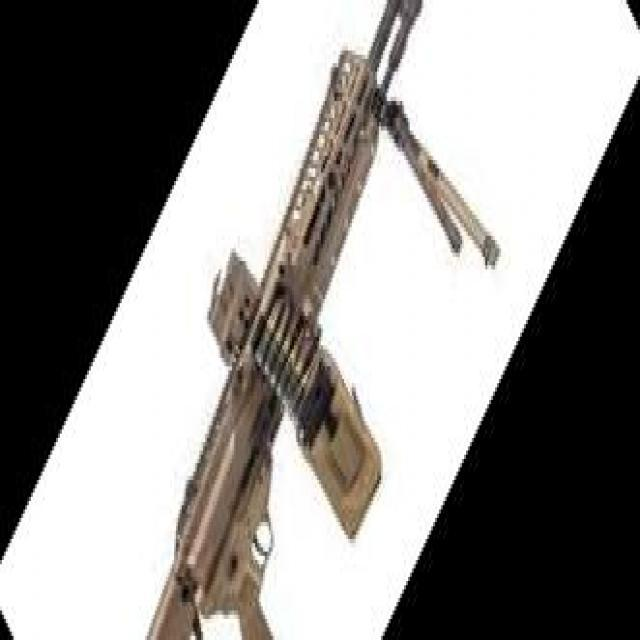weapon: (144, 1, 502, 640)
